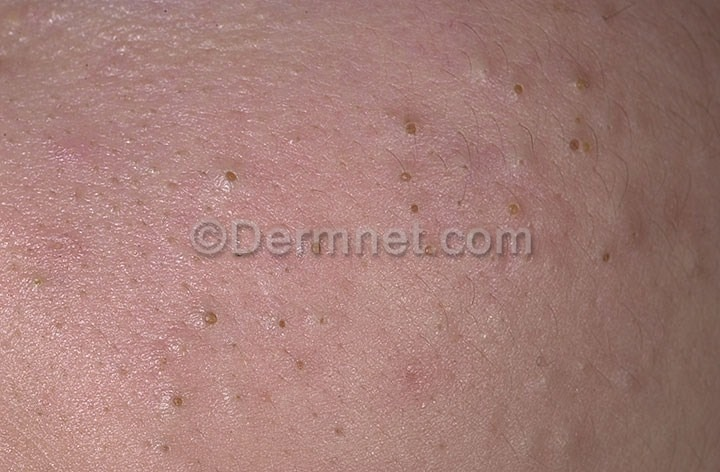Acne: (156, 70, 627, 342)
